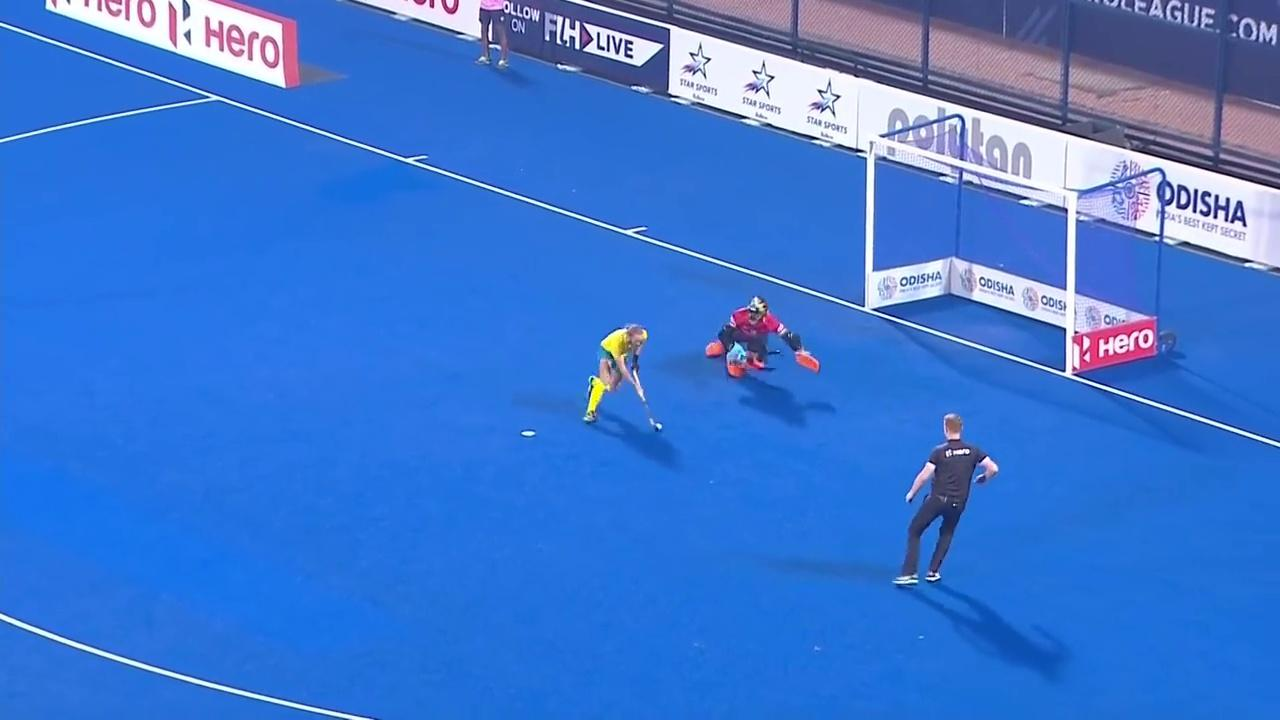ball: (651, 419, 668, 434)
